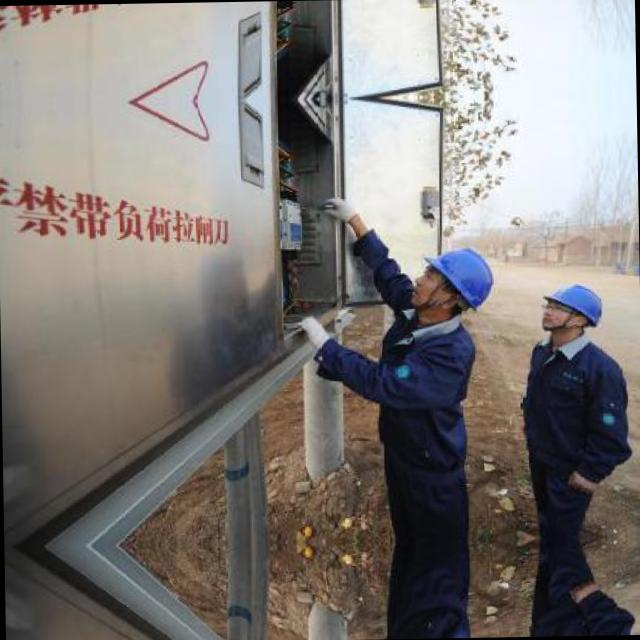helmet: (408, 238, 508, 323), (536, 276, 606, 342)
